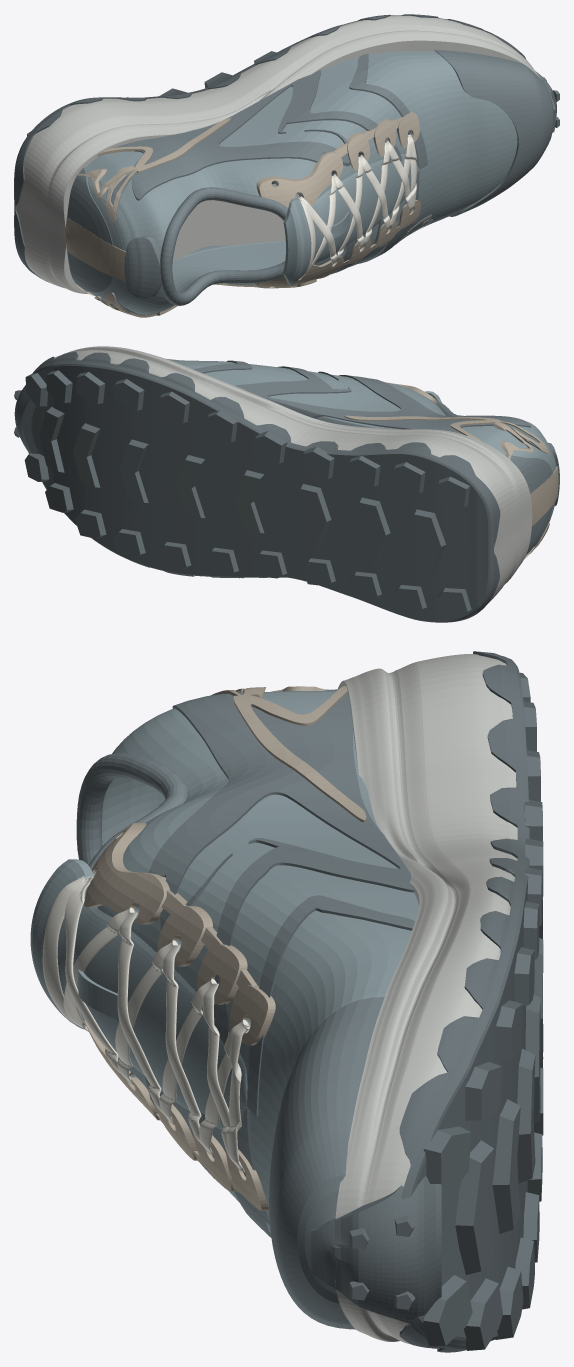
The model's file is Trail_Shoe.glb.
3 views of the same model, one above another, from view 1: azimuth 30°, elevation 25°; view 2: azimuth 150°, elevation 25°; view 3: azimuth 270°, elevation 25° (orthographic). The views are drawn at different scales.
Parts seen in each view (by area): view 1: 03_Continuous_textile_upper, 01_Continuous_midsole, 06_Asymmetric_support_panels, 08_Continuous_toe_reinforcement, 05_Collar_padding, 09_Eyestays_with_functional_bores, 04_Tongue_and_keeper, 10_Crossed_lace_sweeps, 02_Rubber_carrier_and_traction, 07_Variable_width_overlay_panels, 11_Heel_webbing; view 2: 02_Rubber_carrier_and_traction, 01_Continuous_midsole, 06_Asymmetric_support_panels, 03_Continuous_textile_upper, 07_Variable_width_overlay_panels, 12_Rubber_toe_wrap, 11_Heel_webbing; view 3: 02_Rubber_carrier_and_traction, 01_Continuous_midsole, 03_Continuous_textile_upper, 06_Asymmetric_support_panels, 08_Continuous_toe_reinforcement, 10_Crossed_lace_sweeps, 09_Eyestays_with_functional_bores, 04_Tongue_and_keeper, 12_Rubber_toe_wrap, 05_Collar_padding, 07_Variable_width_overlay_panels.
Boxes of the visible parts, x1,y1,x2,y2 form: 03_Continuous_textile_upper: (85,51,517,314); 01_Continuous_midsole: (16,15,541,293); 06_Asymmetric_support_panels: (67,54,427,315); 08_Continuous_toe_reinforcement: (434,49,553,216); 05_Collar_padding: (124,187,287,305); 09_Eyestays_with_functional_bores: (253,111,420,288); 04_Tongue_and_keeper: (283,154,419,285); 10_Crossed_lace_sweeps: (299,134,416,277); 02_Rubber_carrier_and_traction: (14,14,531,282); 07_Variable_width_overlay_panels: (76,118,316,317); 11_Heel_webbing: (65,217,125,281); 02_Rubber_carrier_and_traction: (24,351,500,622); 01_Continuous_midsole: (54,346,532,603); 06_Asymmetric_support_panels: (193,360,552,554); 03_Continuous_textile_upper: (166,358,556,552); 07_Variable_width_overlay_panels: (344,415,549,559); 12_Rubber_toe_wrap: (14,386,39,453); 11_Heel_webbing: (530,466,558,526); 02_Rubber_carrier_and_traction: (399,651,543,1352); 01_Continuous_midsole: (335,654,517,1348); 03_Continuous_textile_upper: (97,690,419,1232); 06_Asymmetric_support_panels: (145,689,414,1237); 08_Continuous_toe_reinforcement: (269,997,384,1329); 10_Crossed_lace_sweeps: (42,876,249,1171); 09_Eyestays_with_functional_bores: (84,823,275,1210); 04_Tongue_and_keeper: (30,859,247,1129); 12_Rubber_toe_wrap: (311,1176,441,1323); 05_Collar_padding: (76,753,187,869); 07_Variable_width_overlay_panels: (211,686,366,822).
Size of the model in its own units: 0.3053 by 0.1176 by 0.1351.
